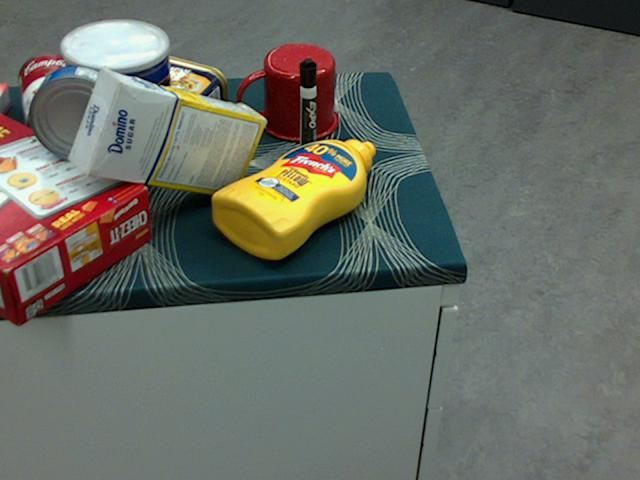cracker_box: (0, 112, 152, 322)
gelatin_box: (0, 83, 12, 125)
large_marker: (297, 58, 317, 164)
master_chef_can: (62, 21, 174, 189)
mug: (235, 44, 337, 142)
mustard_bottle: (211, 138, 375, 259)
potted_meat_can: (114, 54, 227, 143)
sugar_box: (69, 71, 266, 196)
tomato_soup_can: (21, 52, 89, 150)
tuna_fish_can: (28, 65, 126, 161)
